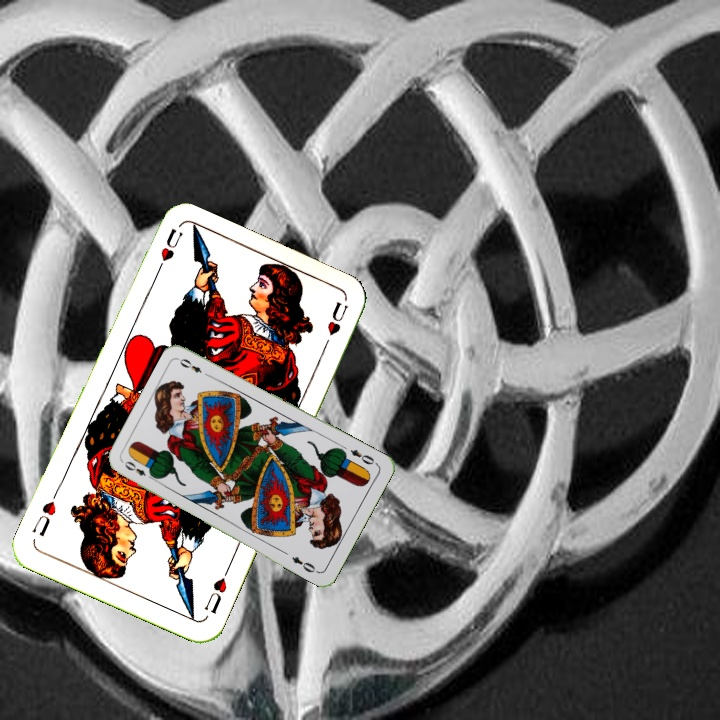EO: (120, 457, 157, 483), (346, 445, 380, 467)
HU: (150, 224, 185, 280), (200, 564, 232, 617)
